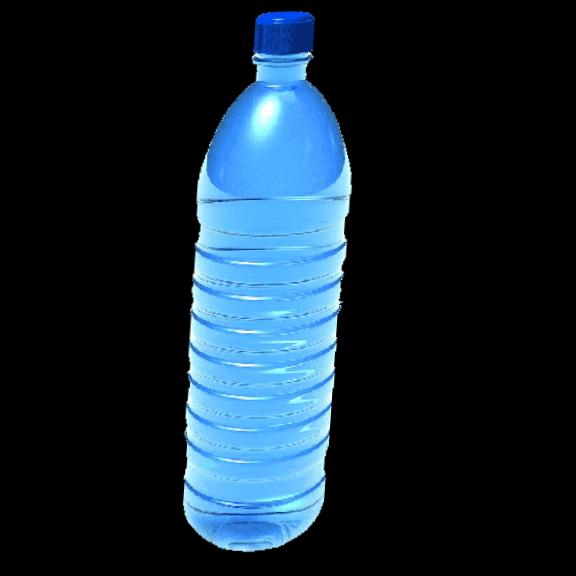Plastik: (160, 0, 383, 563)
